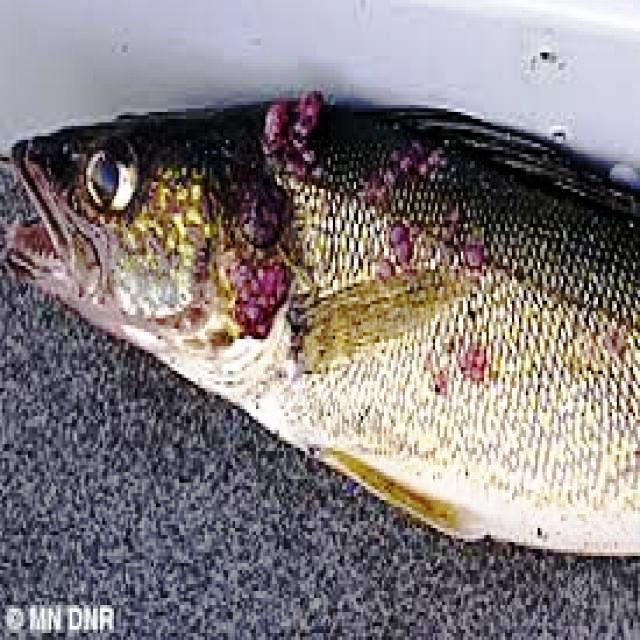Epizootic Ulcerative Syndrome -EUS-: (8, 91, 639, 552)
